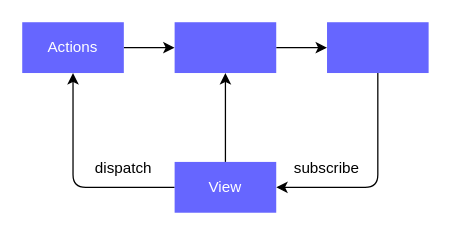
Image size: 450x234. Some labels were removed from this diagram. Each missing label, with the centre of its shape:
"Reducer" belongs at (x=225, y=47).
"Store" belongs at (x=377, y=47).
